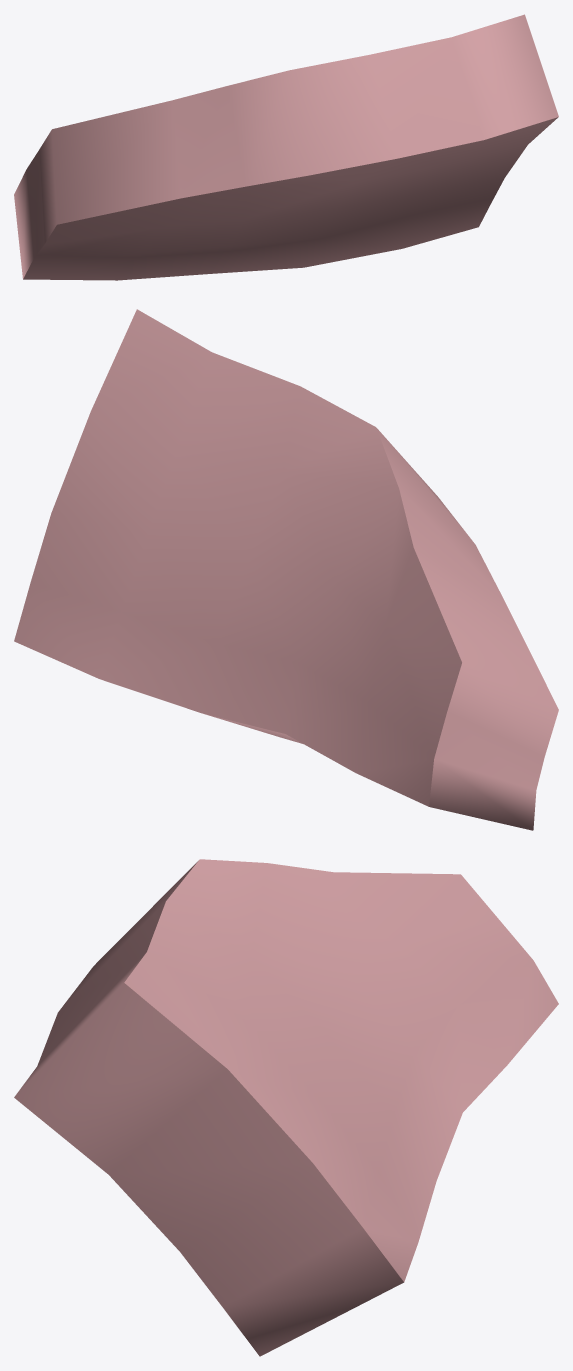
3 views of the same model, one above another, from view 1: azimuth 30°, elevation 25°; view 2: azimuth 150°, elevation 25°; view 3: azimuth 270°, elevation 25° (orthographic). The views are drawn at different scales.
Parts seen in each view (by area): view 1: ZA_138b2c6d95289ea2; view 2: ZA_138b2c6d95289ea2; view 3: ZA_138b2c6d95289ea2.
Boxes of the visible parts, box(x1,y1,x2,y2) form: ZA_138b2c6d95289ea2: box(14, 14, 558, 280); ZA_138b2c6d95289ea2: box(14, 309, 558, 830); ZA_138b2c6d95289ea2: box(14, 859, 558, 1356).
Size of the model in its own units: 0.0129 by 0.0076 by 0.00967.
